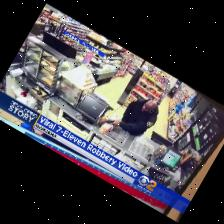person: (112, 99, 158, 136)
